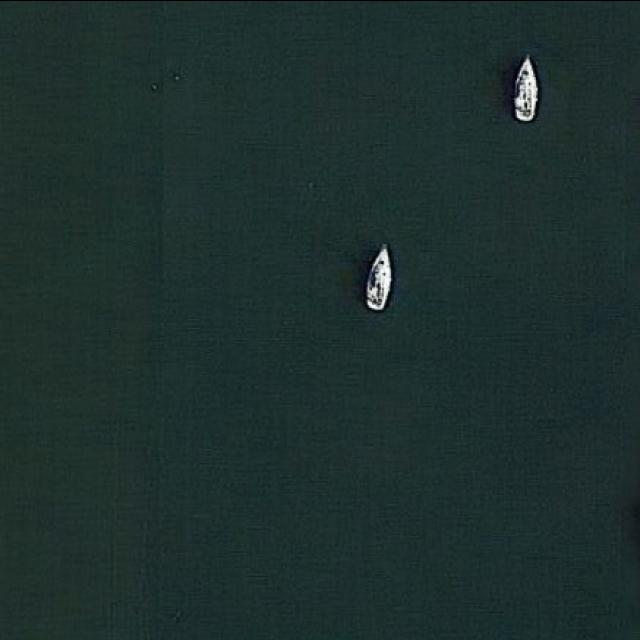ship: (362, 240, 398, 314), (506, 55, 540, 126)
